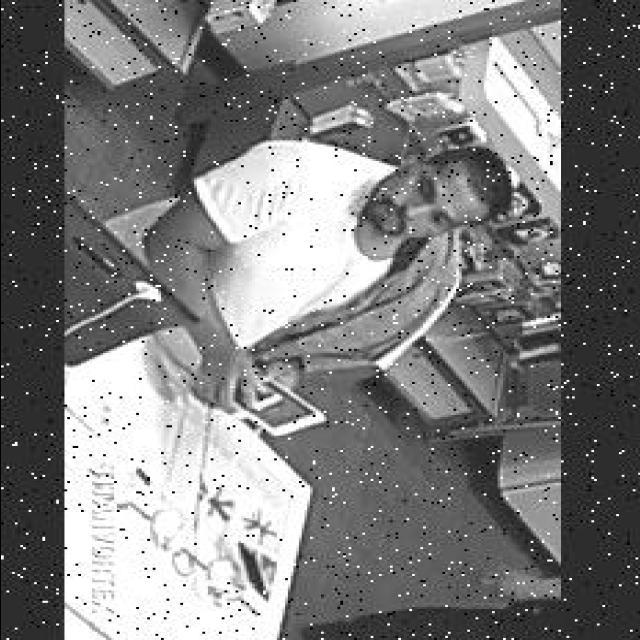Shoplifting: (83, 130, 521, 452)
